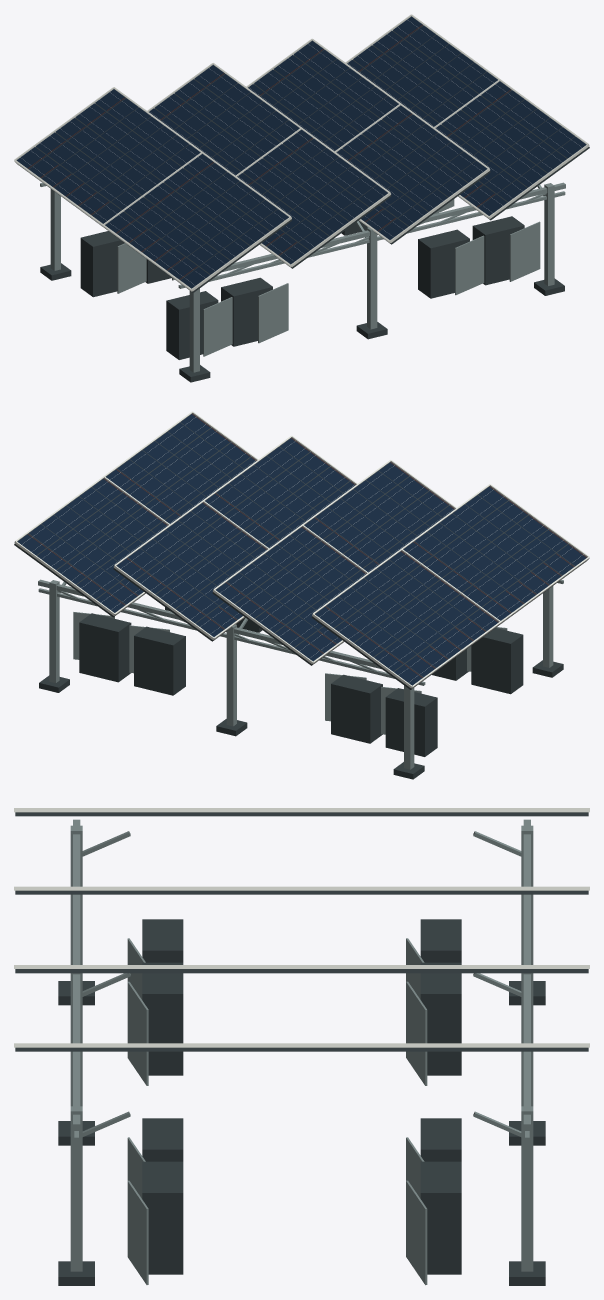
File: SM_MP_Solar_Canopy.fbx
3 views of the same model, one above another, from view 1: azimuth 30°, elevation 25°; view 2: azimuth 150°, elevation 25°; view 3: azimuth 270°, elevation 25° (orthographic). The views are drawn at different scales.
Visible parts, largest first — view 1: SM_MP_Solar_Canopy; view 2: SM_MP_Solar_Canopy; view 3: SM_MP_Solar_Canopy.
Boxes of the visible parts, <box> form: SM_MP_Solar_Canopy: <box>14,14,589,382</box>; SM_MP_Solar_Canopy: <box>14,411,589,779</box>; SM_MP_Solar_Canopy: <box>14,808,589,1285</box>.
Size of what is drawn, in the model's own units: 1824 by 1406 by 675.
